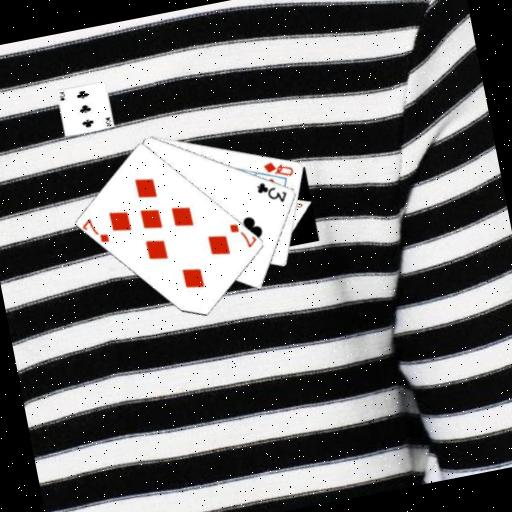3C: (253, 176, 291, 209)
7D: (226, 217, 259, 253), (79, 212, 112, 248)
QD: (259, 155, 296, 183)
